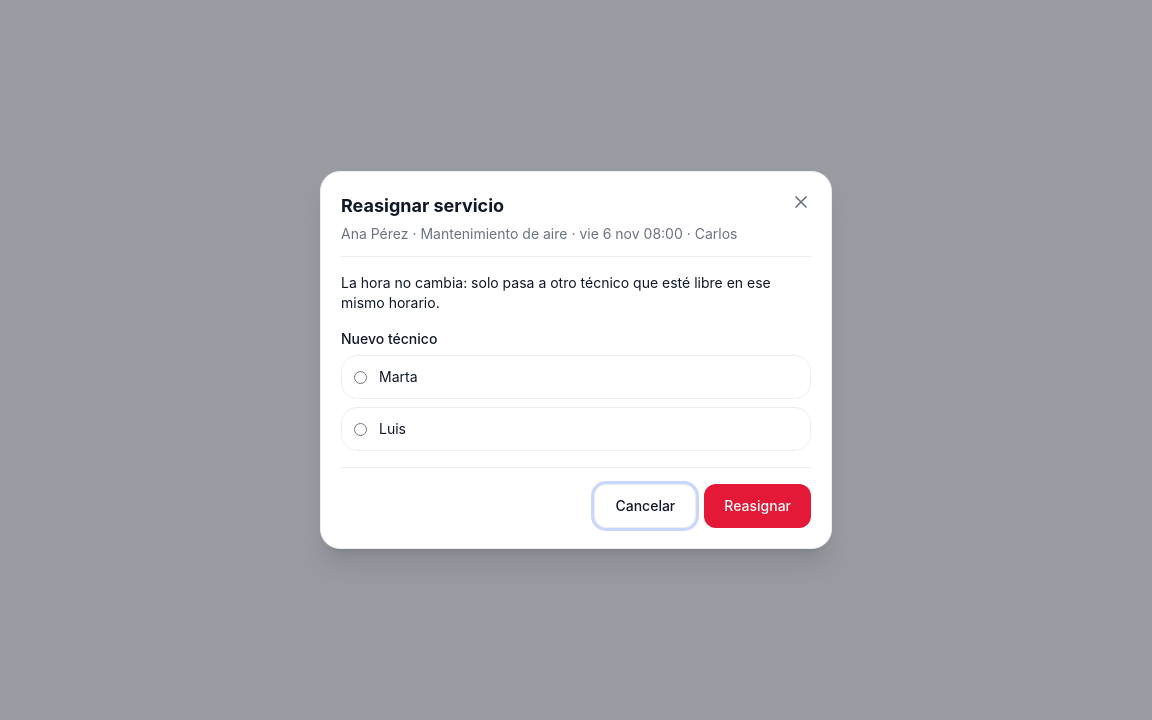
Test: ReassignDialog › muestra invalid_transition y not_found
This screenshot has width=1152, height=720.
Click the radio button labelled "Marta".
click(360, 377)  # box [354, 370, 367, 384]
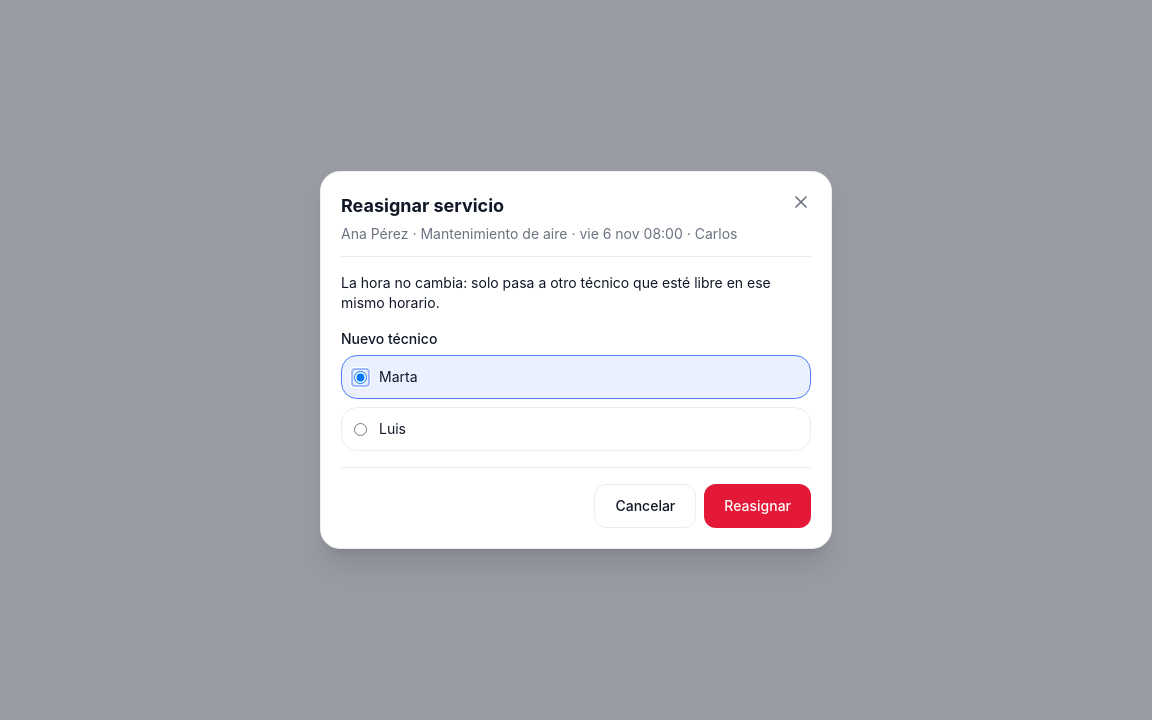
Click the button "Reasignar".
click(758, 506)  # box [704, 484, 811, 528]
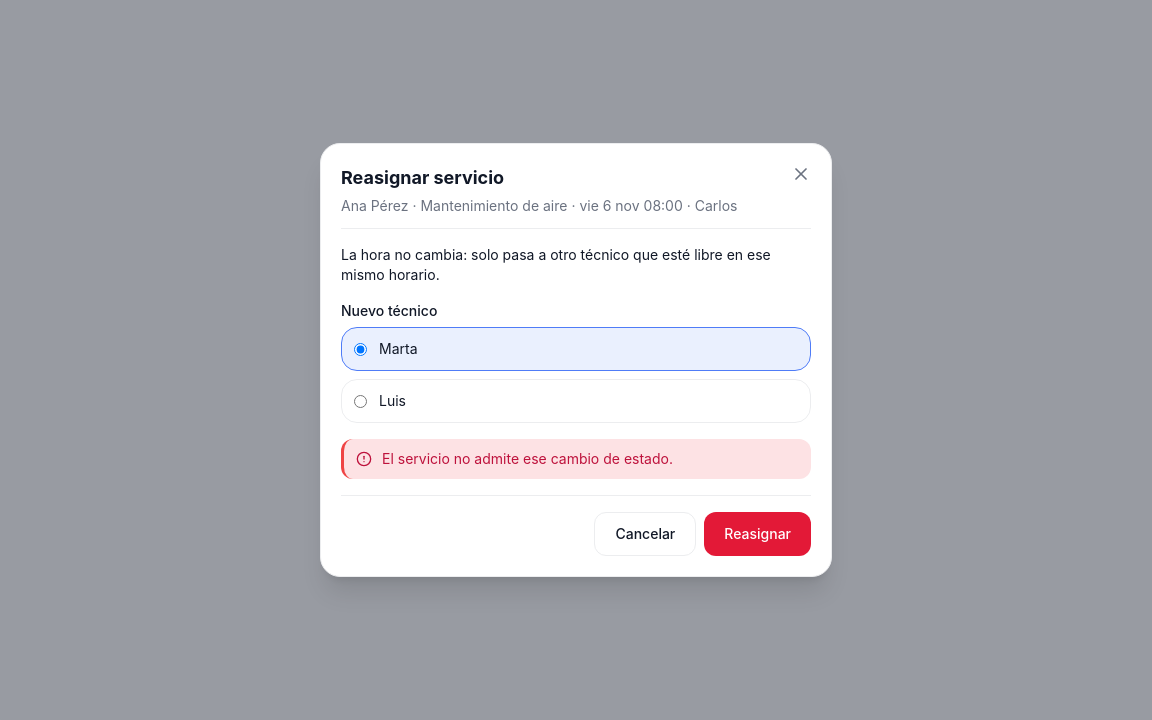
expect the text "El servicio no admite ese cambio de estado." is shown: met, box [382, 449, 673, 469]
Click the radio button labelled "Luis".
click(360, 401)  # box [354, 394, 367, 408]
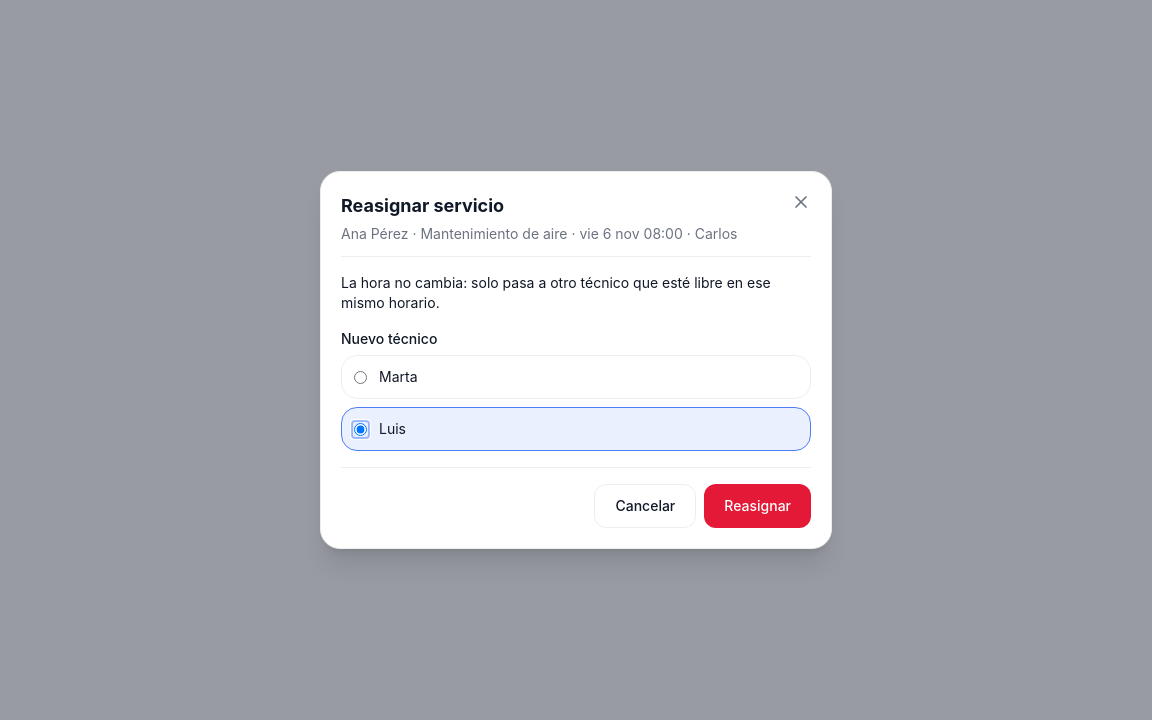
Click the button "Reasignar".
click(758, 506)  # box [704, 484, 811, 528]
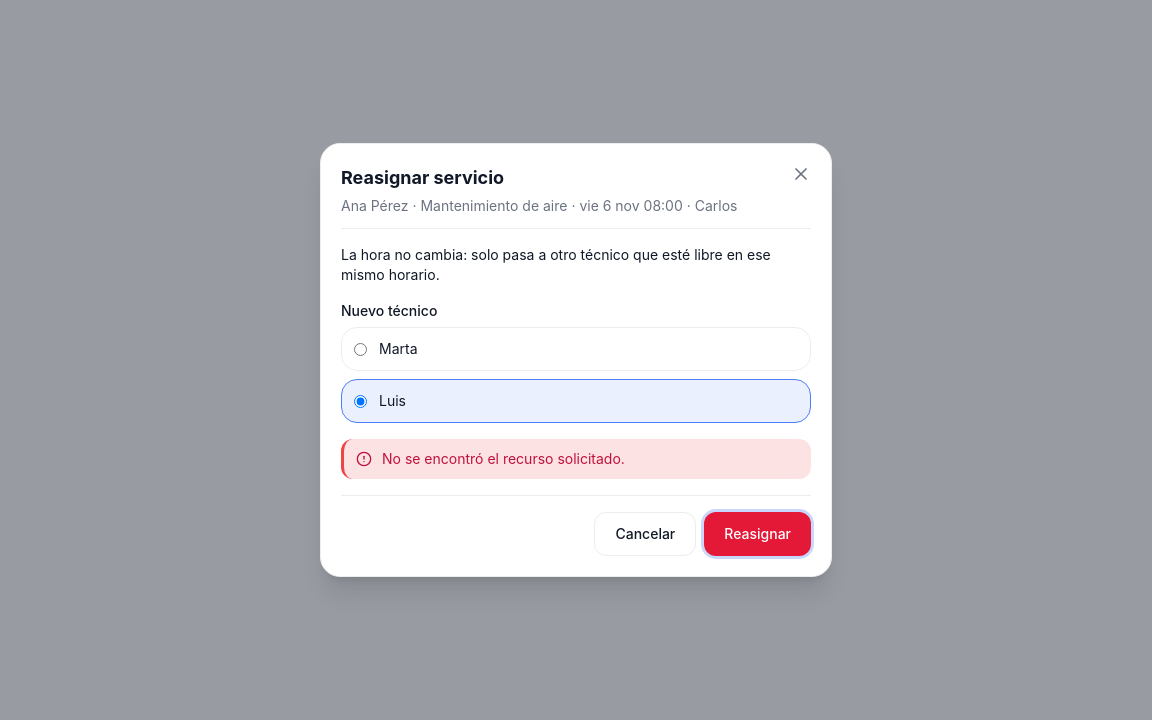
expect the text "No se encontró el recurso solicitado." is shown: met, box [382, 449, 625, 469]
